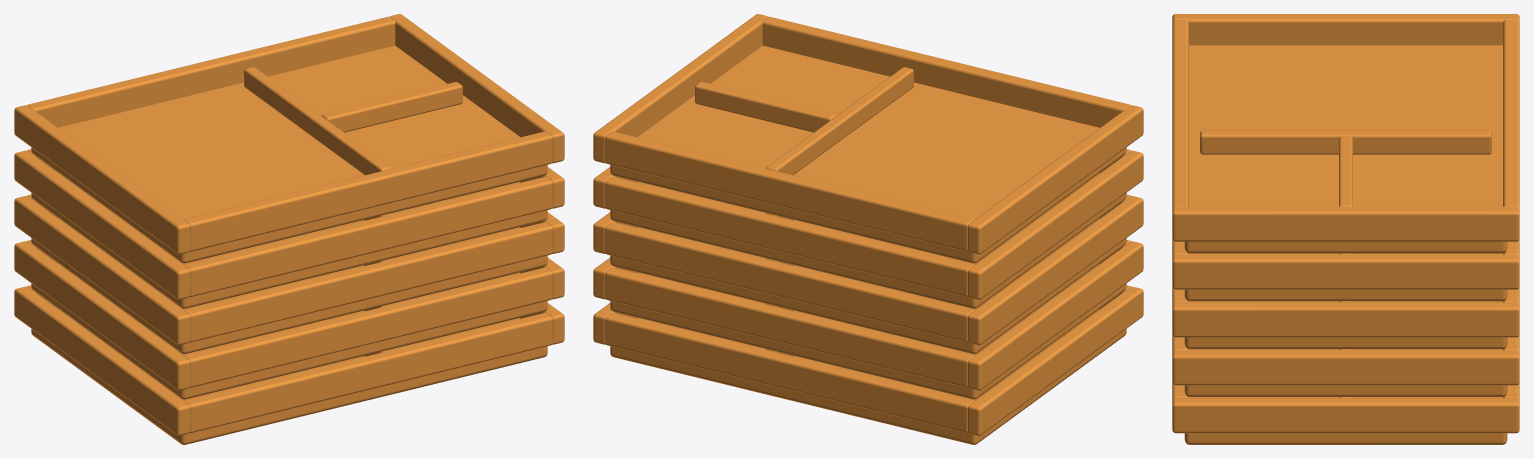
The model's file is prison-complex-builder-meal-tray-stack-cbeb736d__25716.glb.
3 renders of one model, left to right at view 1: azimuth 30°, elevation 25°; view 2: azimuth 150°, elevation 25°; view 3: azimuth 270°, elevation 25°, orthographic. The views are drawn at different scales.
Parts seen in each view (by area): view 1: meal-tray-stack; view 2: meal-tray-stack; view 3: meal-tray-stack.
Boxes of the visible parts, x1,y1,x2,y2 form: meal-tray-stack: (14, 14, 564, 444); meal-tray-stack: (593, 14, 1143, 444); meal-tray-stack: (1172, 14, 1519, 444).
Bounding box in the file's own units: 0.34 × 0.19 × 0.25.
